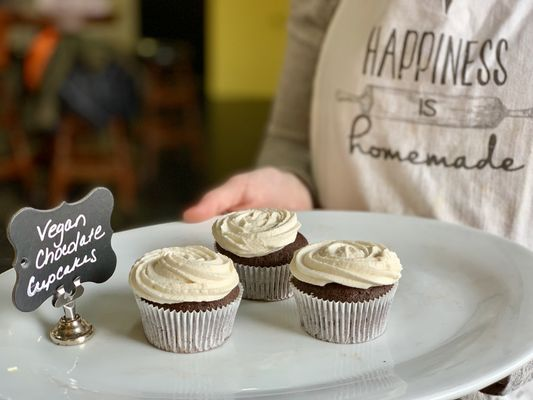curry: (0, 206, 533, 399)
sushi: (129, 244, 243, 354), (290, 239, 402, 344), (212, 208, 308, 302)
